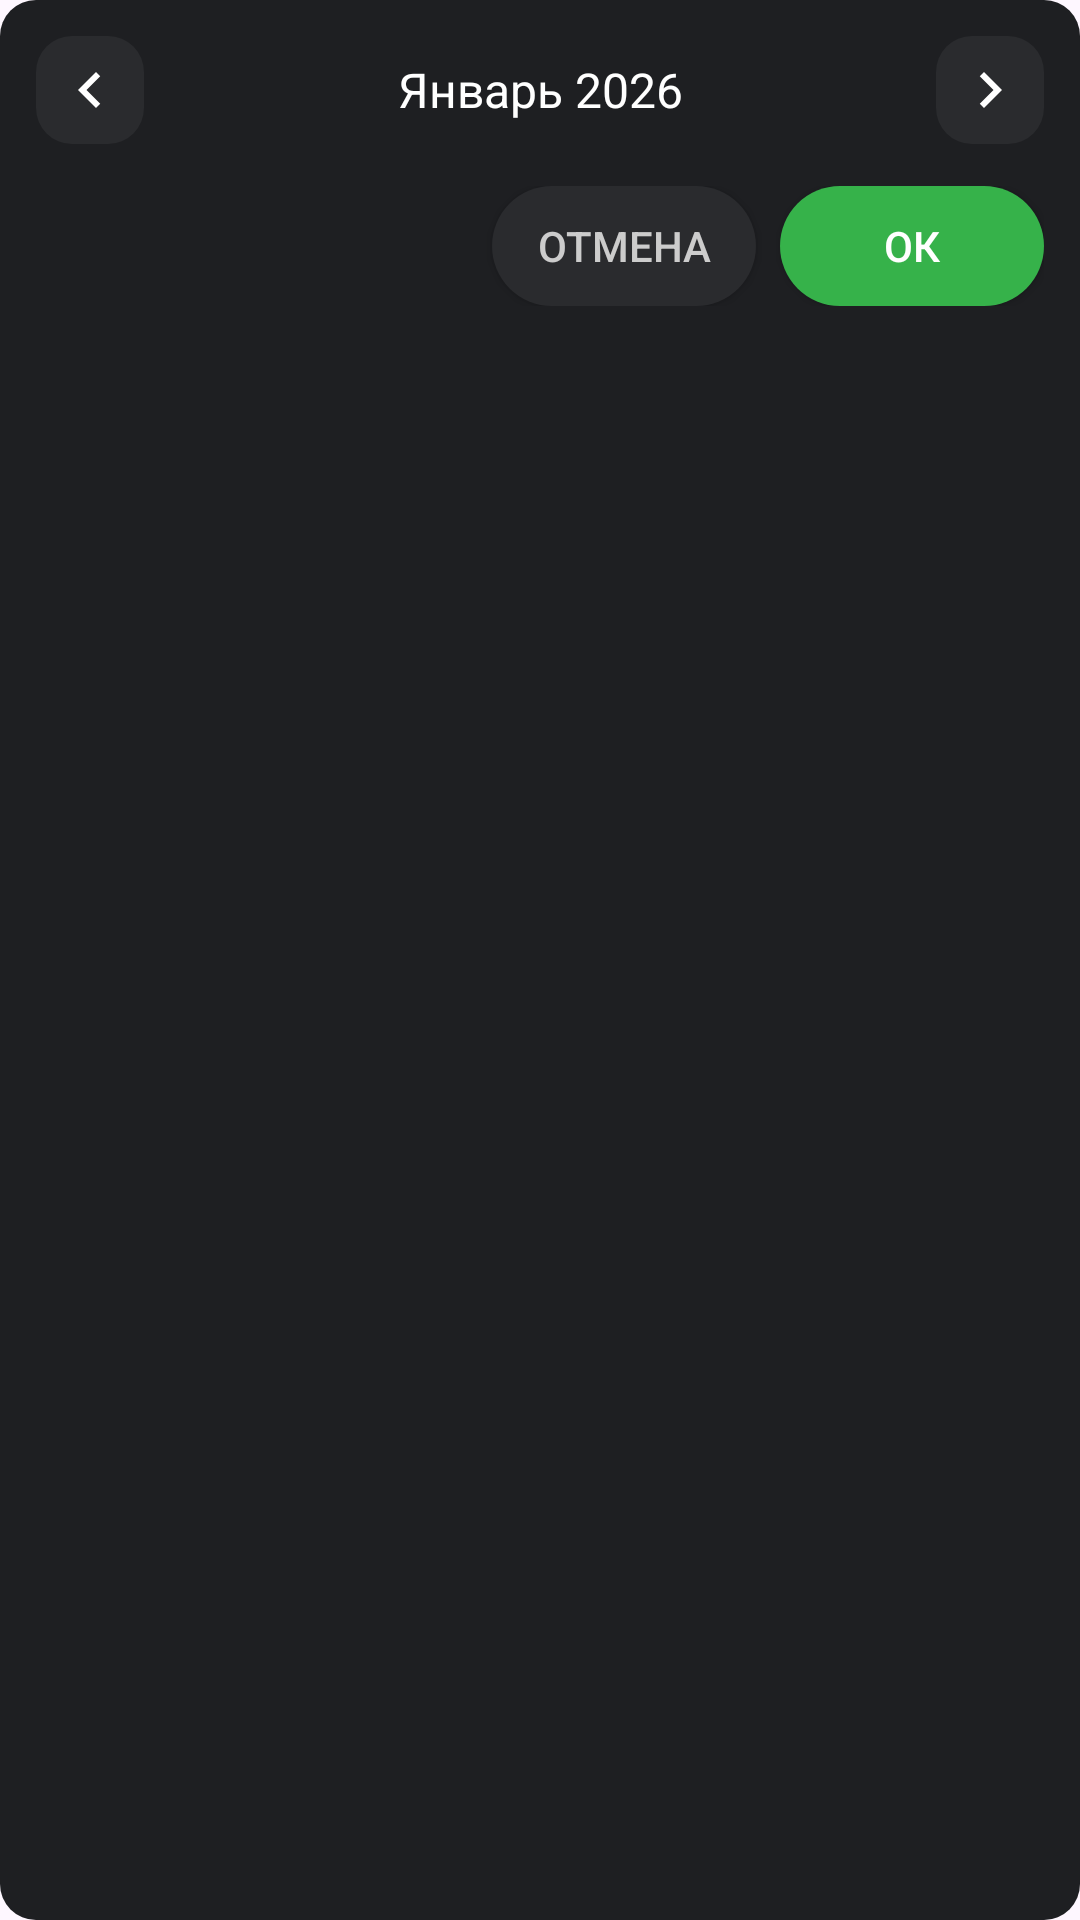

Named icons in this screenshot (1080px x 1920px) and their bounding boxes, (x1, y1, x2, y2):
Next: (936, 36, 1044, 144)
Prev: (36, 36, 144, 144)
